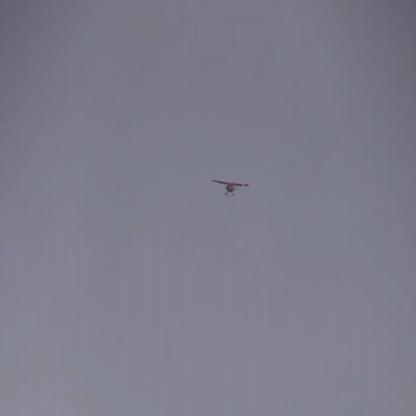CIV_Plane: (210, 176, 248, 197)
